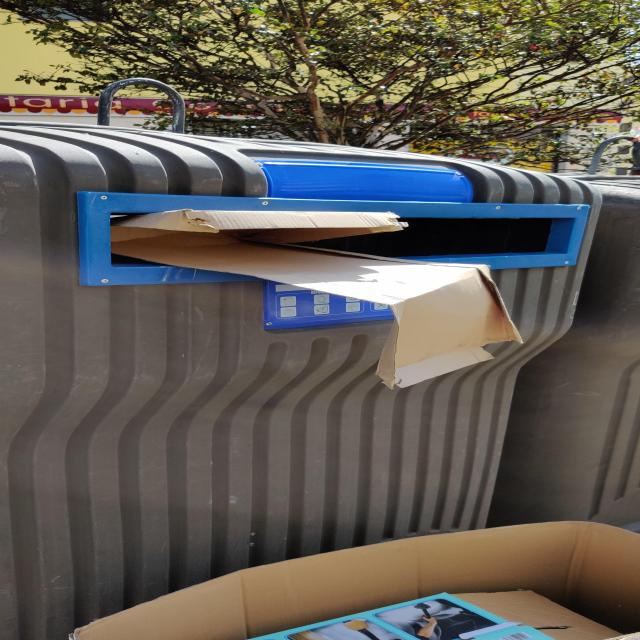Corrugated carton: (68, 520, 638, 640), (244, 590, 624, 640)
Pizza box: (112, 209, 524, 390)
